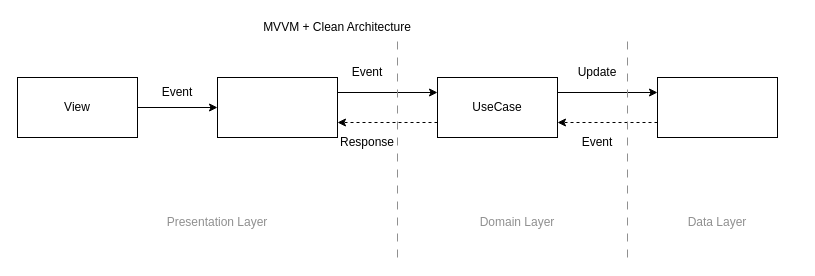
This 815x276 diagram has some shape labels left out. Here are the shapes that lost their labels. From the top down, the centre of each, then its label:
the point at 277,107: ViewModel
the point at 717,107: Repository
